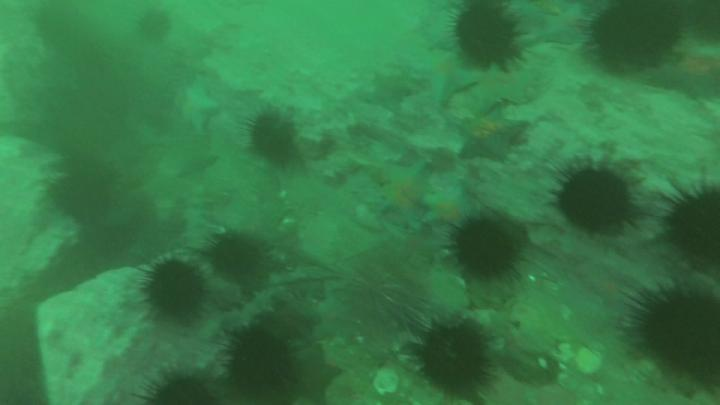echinus: (640, 292, 720, 375), (590, 5, 683, 70), (423, 324, 491, 398), (559, 168, 633, 231), (670, 186, 720, 265), (349, 266, 410, 329), (230, 332, 294, 389), (457, 8, 523, 62), (144, 260, 203, 319), (51, 171, 112, 228), (458, 221, 516, 275), (250, 113, 293, 162), (210, 235, 259, 278), (147, 375, 215, 405), (138, 8, 169, 39)
starfish: (409, 49, 477, 104), (458, 105, 531, 155), (472, 62, 538, 115), (377, 158, 429, 218), (657, 50, 720, 96), (291, 345, 339, 404), (424, 182, 483, 224), (180, 78, 220, 134), (371, 67, 411, 111), (181, 145, 217, 180)
